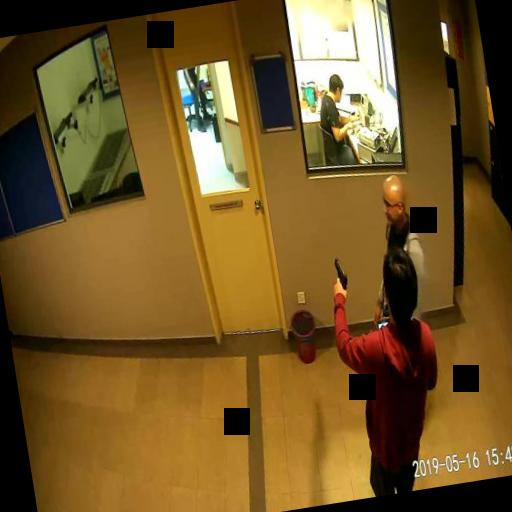Handgun: (329, 256, 347, 292)
